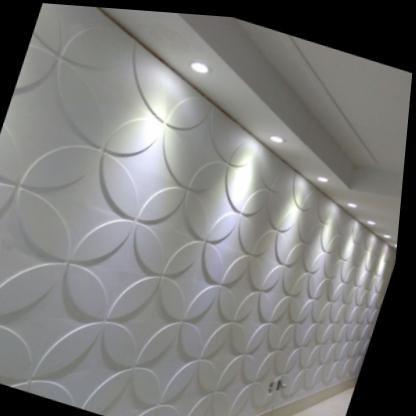Futech tiles: (0, 127, 367, 405)
